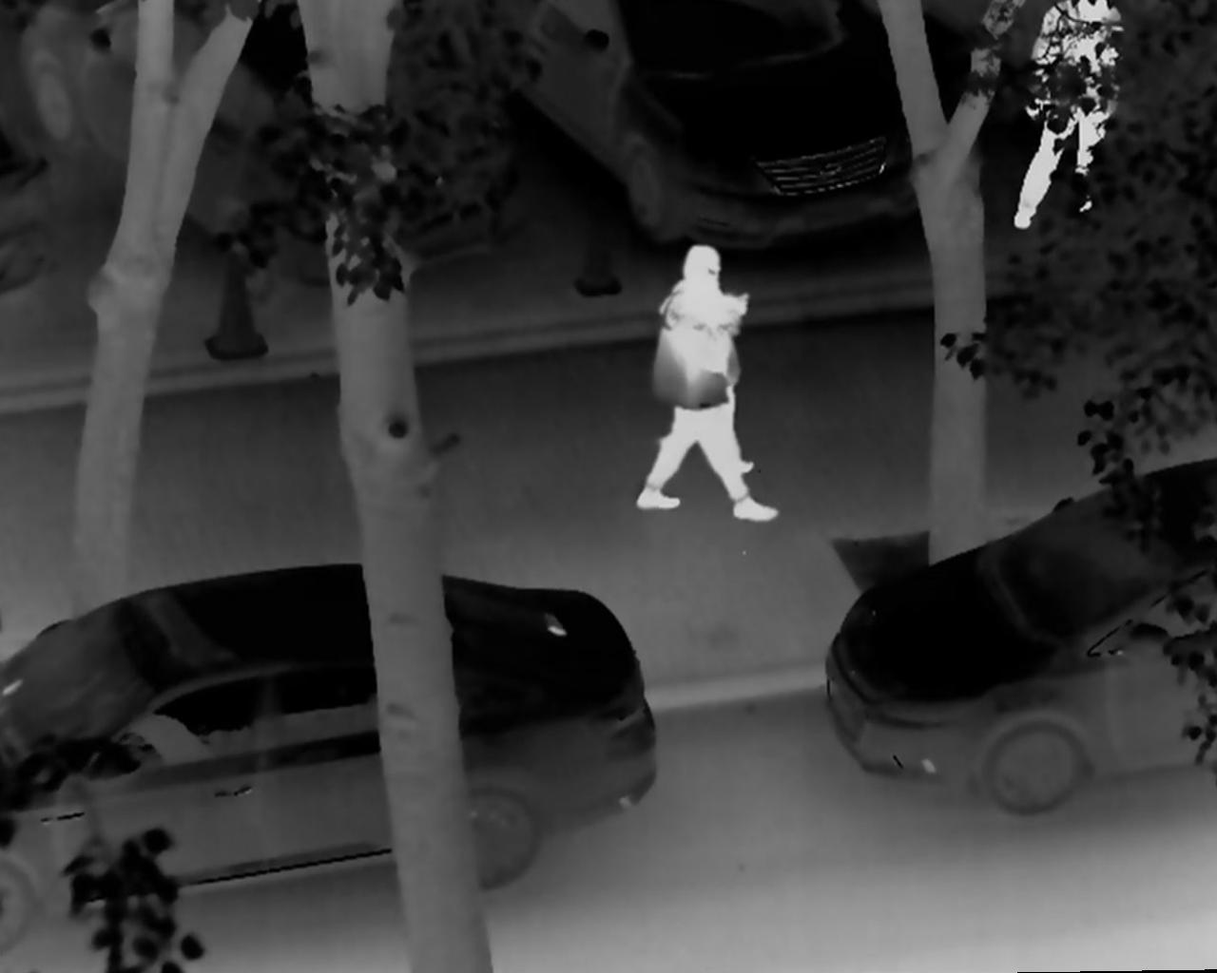person: (636, 255, 781, 524), (653, 243, 761, 475)
